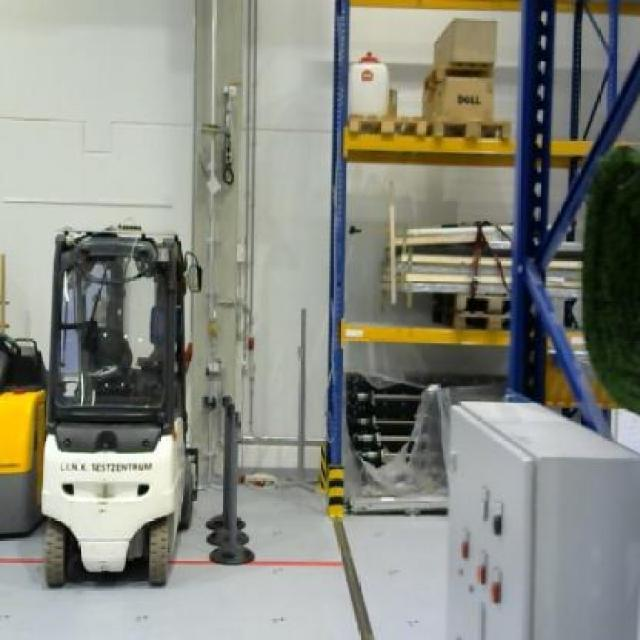box: (432, 15, 497, 74), (418, 78, 493, 120)
